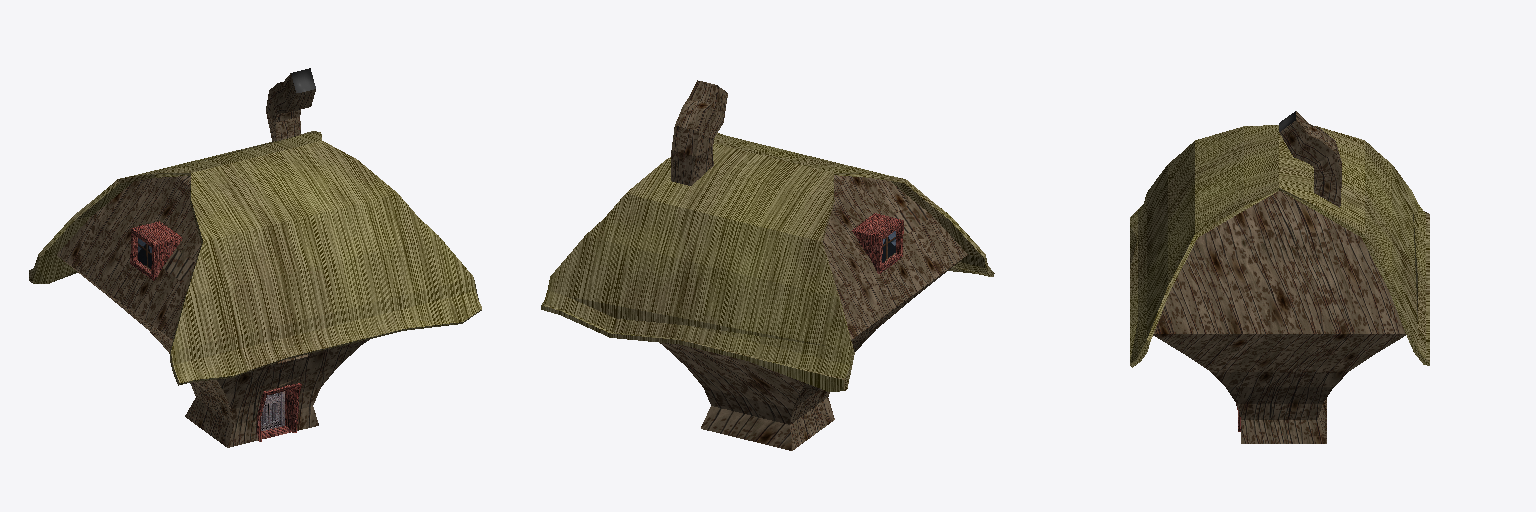
The picture shows the model from 3 angles: view 1: azimuth 30°, elevation 25°; view 2: azimuth 150°, elevation 25°; view 3: azimuth 270°, elevation 25°; orthographic projection.
Parts seen in each view (by area): view 1: Form18, Form7; view 2: Form18, Form7; view 3: Form18.
Part boxes in pixels (left/top/right/bottom): Form18: left=29, top=68, right=481, bottom=447; Form7: left=130, top=221, right=182, bottom=280; Form18: left=541, top=80, right=994, bottom=450; Form7: left=852, top=213, right=903, bottom=273; Form18: left=1130, top=111, right=1429, bottom=443.
Bounding box in the file's own units: 23.05 × 24.21 × 19.8.
5 materials, 5 textured.